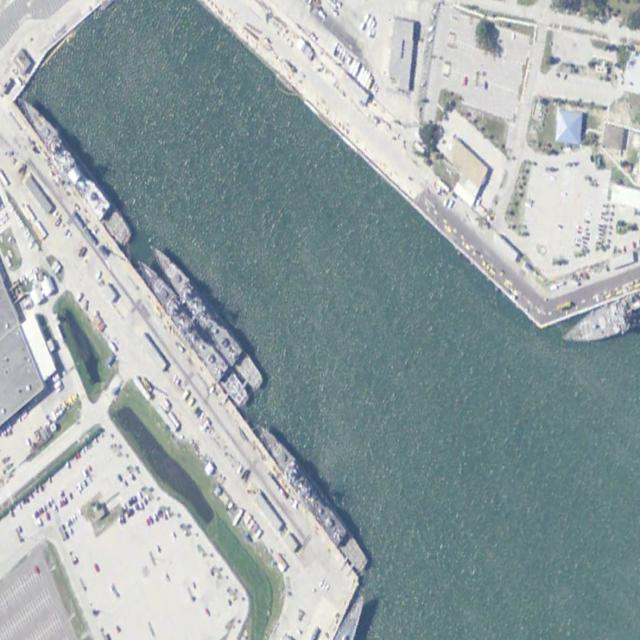Frigate: (147, 232, 268, 396), (133, 250, 254, 414), (17, 85, 135, 252), (254, 412, 372, 577)
